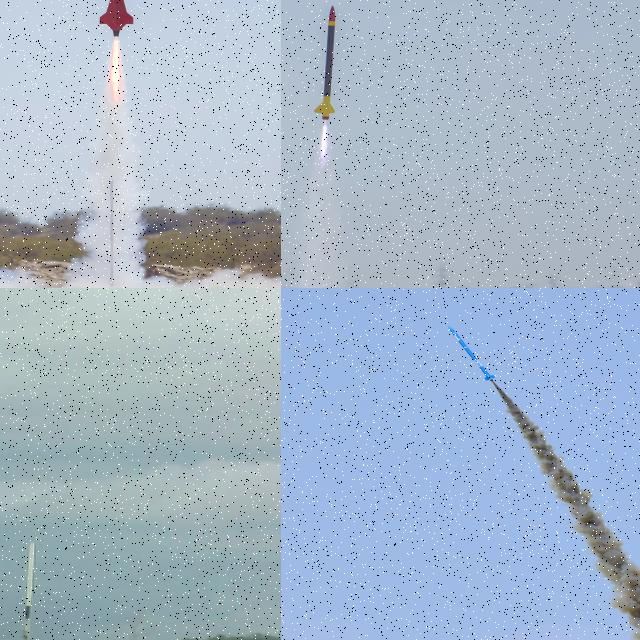Rocket: (447, 325, 498, 382), (314, 5, 336, 120), (98, 0, 134, 38)
